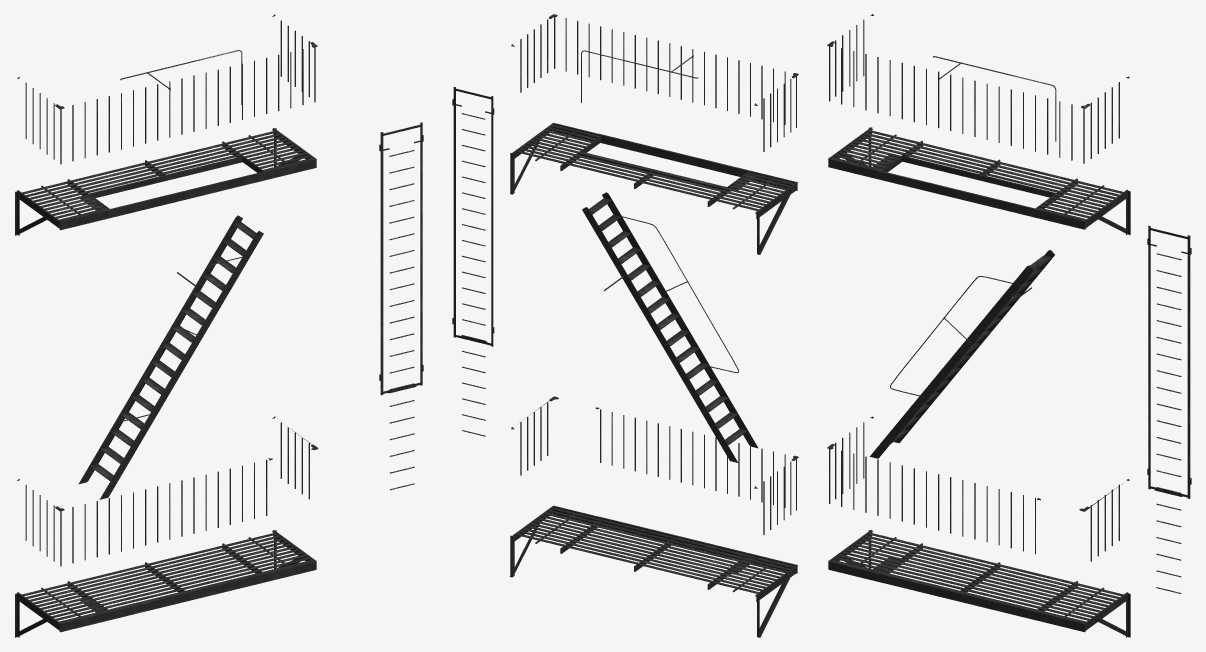
The model's file is modular_fire_escape.lite.glb.
3 views of the same model, side by side, from view 1: azimuth 30°, elevation 25°; view 2: azimuth 150°, elevation 25°; view 3: azimuth 330°, elevation 25° (orthographic). The views are drawn at different scales.
Parts seen in each view (by area): view 1: modular_fire_escape_platform_middle, modular_fire_escape_railing_middle; view 2: modular_fire_escape_platform_middle, modular_fire_escape_railing_middle; view 3: modular_fire_escape_platform_middle, modular_fire_escape_railing_middle.
Boxes of the visible parts, x1,y1,x2,y2 form: modular_fire_escape_platform_middle: [15, 128, 316, 637]; modular_fire_escape_railing_middle: [17, 14, 423, 566]; modular_fire_escape_platform_middle: [510, 123, 797, 637]; modular_fire_escape_railing_middle: [452, 14, 798, 534]; modular_fire_escape_platform_middle: [828, 127, 1130, 637]; modular_fire_escape_railing_middle: [827, 14, 1191, 593].
Size of the model in its own units: 6.66 by 9.76 by 1.42.
Materials: 2 (2 with a texture image).
